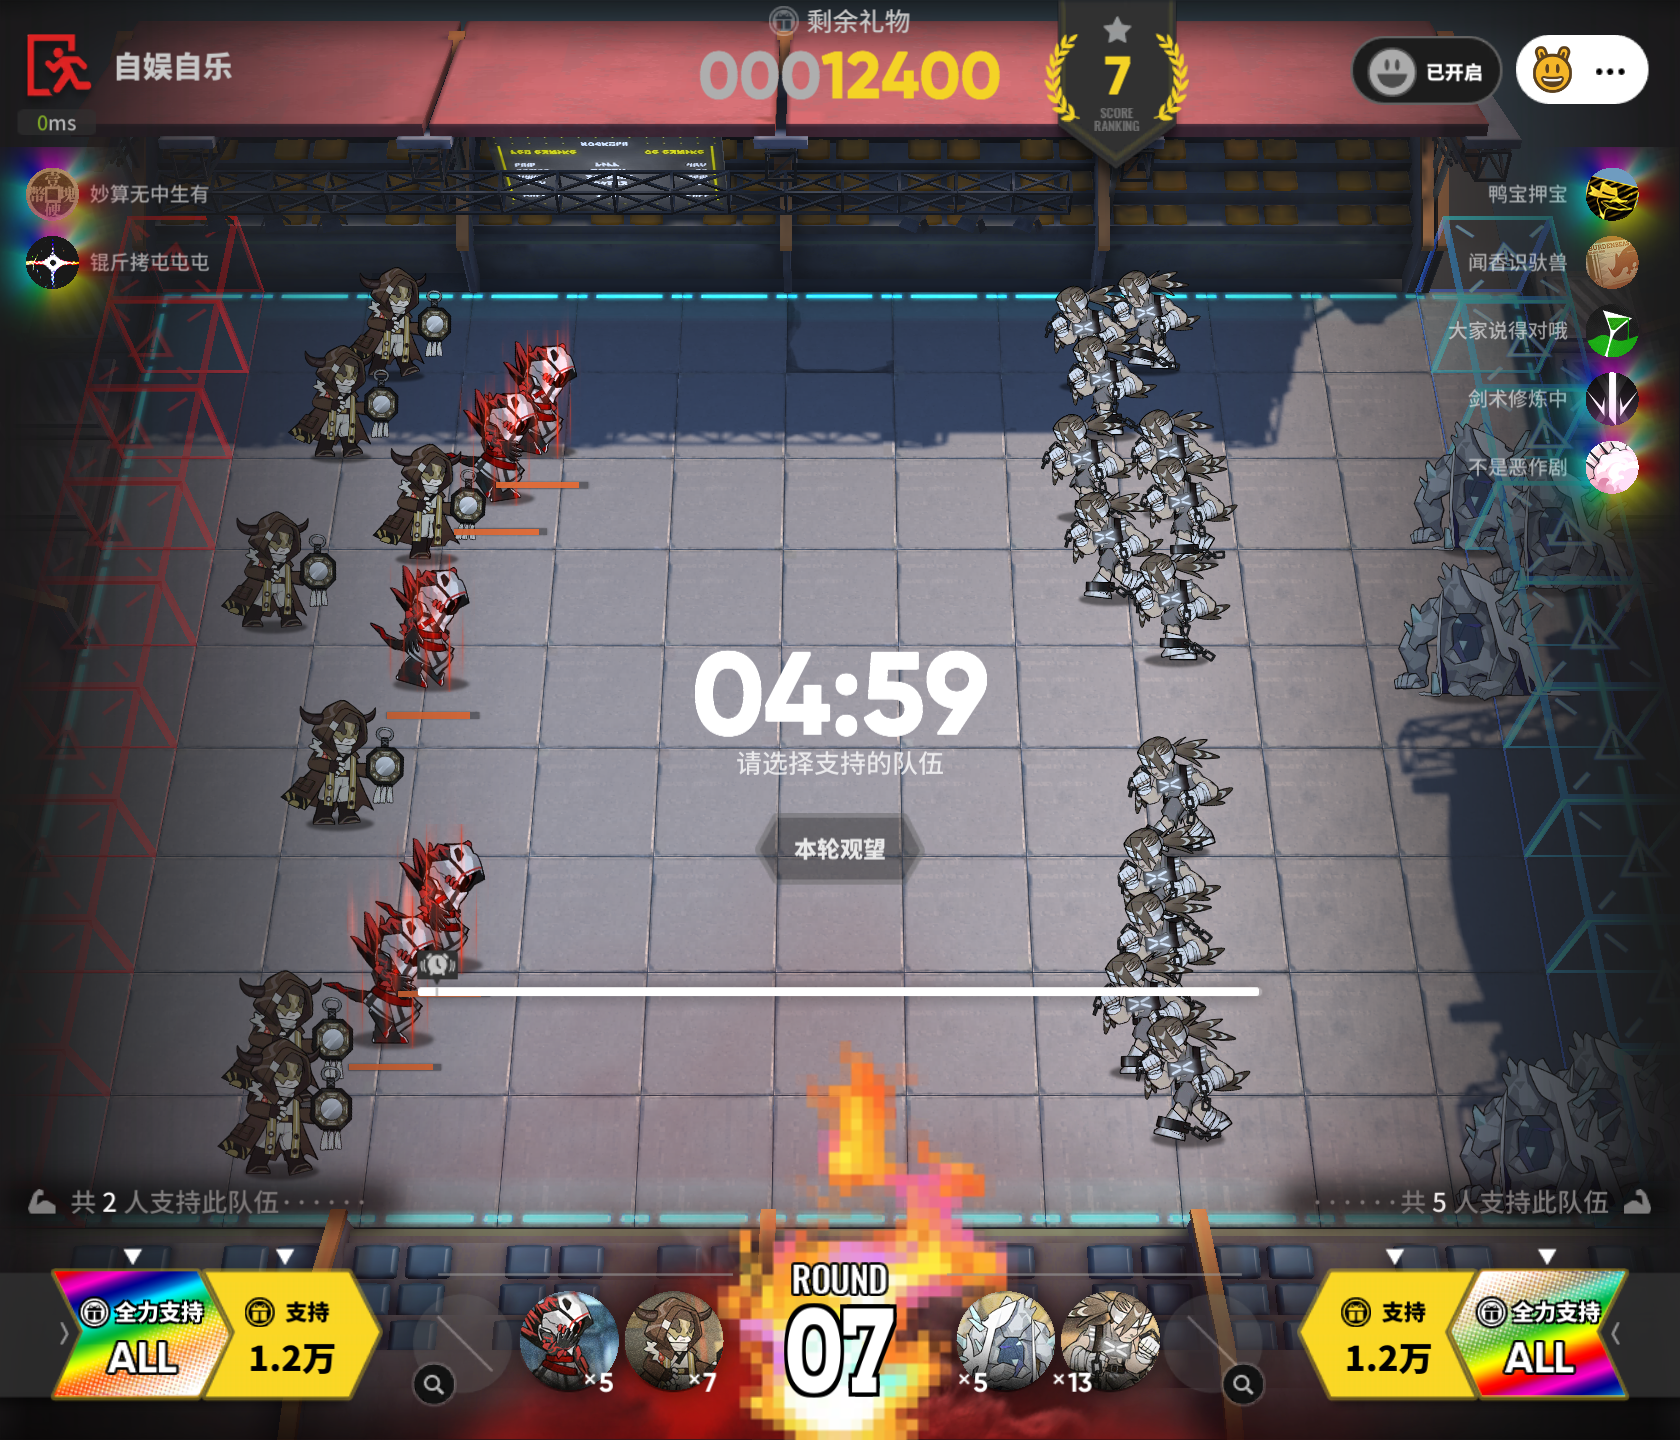扎人的石头: (1393, 559, 1549, 714), (1456, 1059, 1606, 1214), (1516, 457, 1639, 613), (1567, 1024, 1680, 1190), (1411, 421, 1529, 554), (954, 1290, 1063, 1394)
苦难的具象: (336, 894, 453, 1059), (364, 560, 486, 694), (390, 834, 490, 970), (517, 1286, 626, 1394), (494, 340, 587, 460), (461, 381, 541, 507)
锁链拳手: (1087, 944, 1231, 1086), (1134, 1007, 1259, 1147), (1100, 890, 1239, 993), (1114, 730, 1234, 849), (1106, 827, 1227, 937), (1056, 1279, 1166, 1394), (1126, 560, 1237, 669), (1061, 494, 1157, 613), (1104, 259, 1196, 374), (1140, 451, 1239, 556), (1054, 340, 1154, 441), (1131, 410, 1227, 509), (1041, 286, 1130, 384), (1049, 423, 1126, 506)
镜子机关枪: (203, 1036, 351, 1181), (213, 954, 354, 1087), (374, 431, 494, 566), (221, 506, 340, 634), (300, 694, 409, 834), (286, 347, 400, 461), (624, 1289, 734, 1394), (354, 273, 453, 381)
